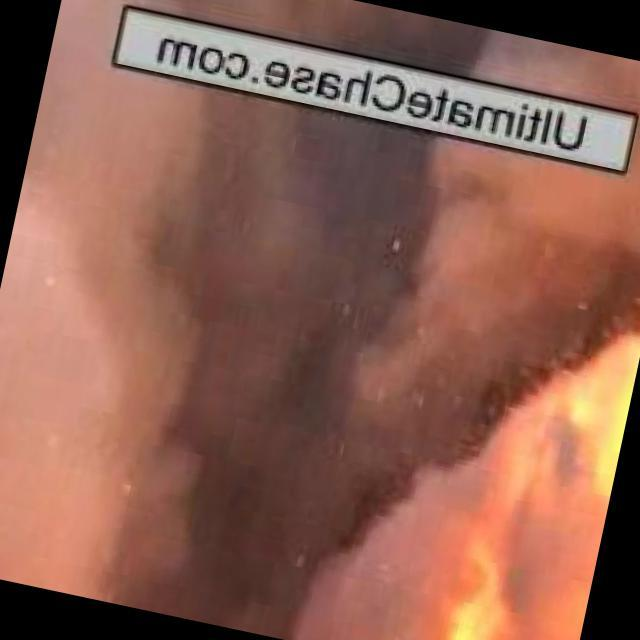Fire: (432, 284, 640, 640)
